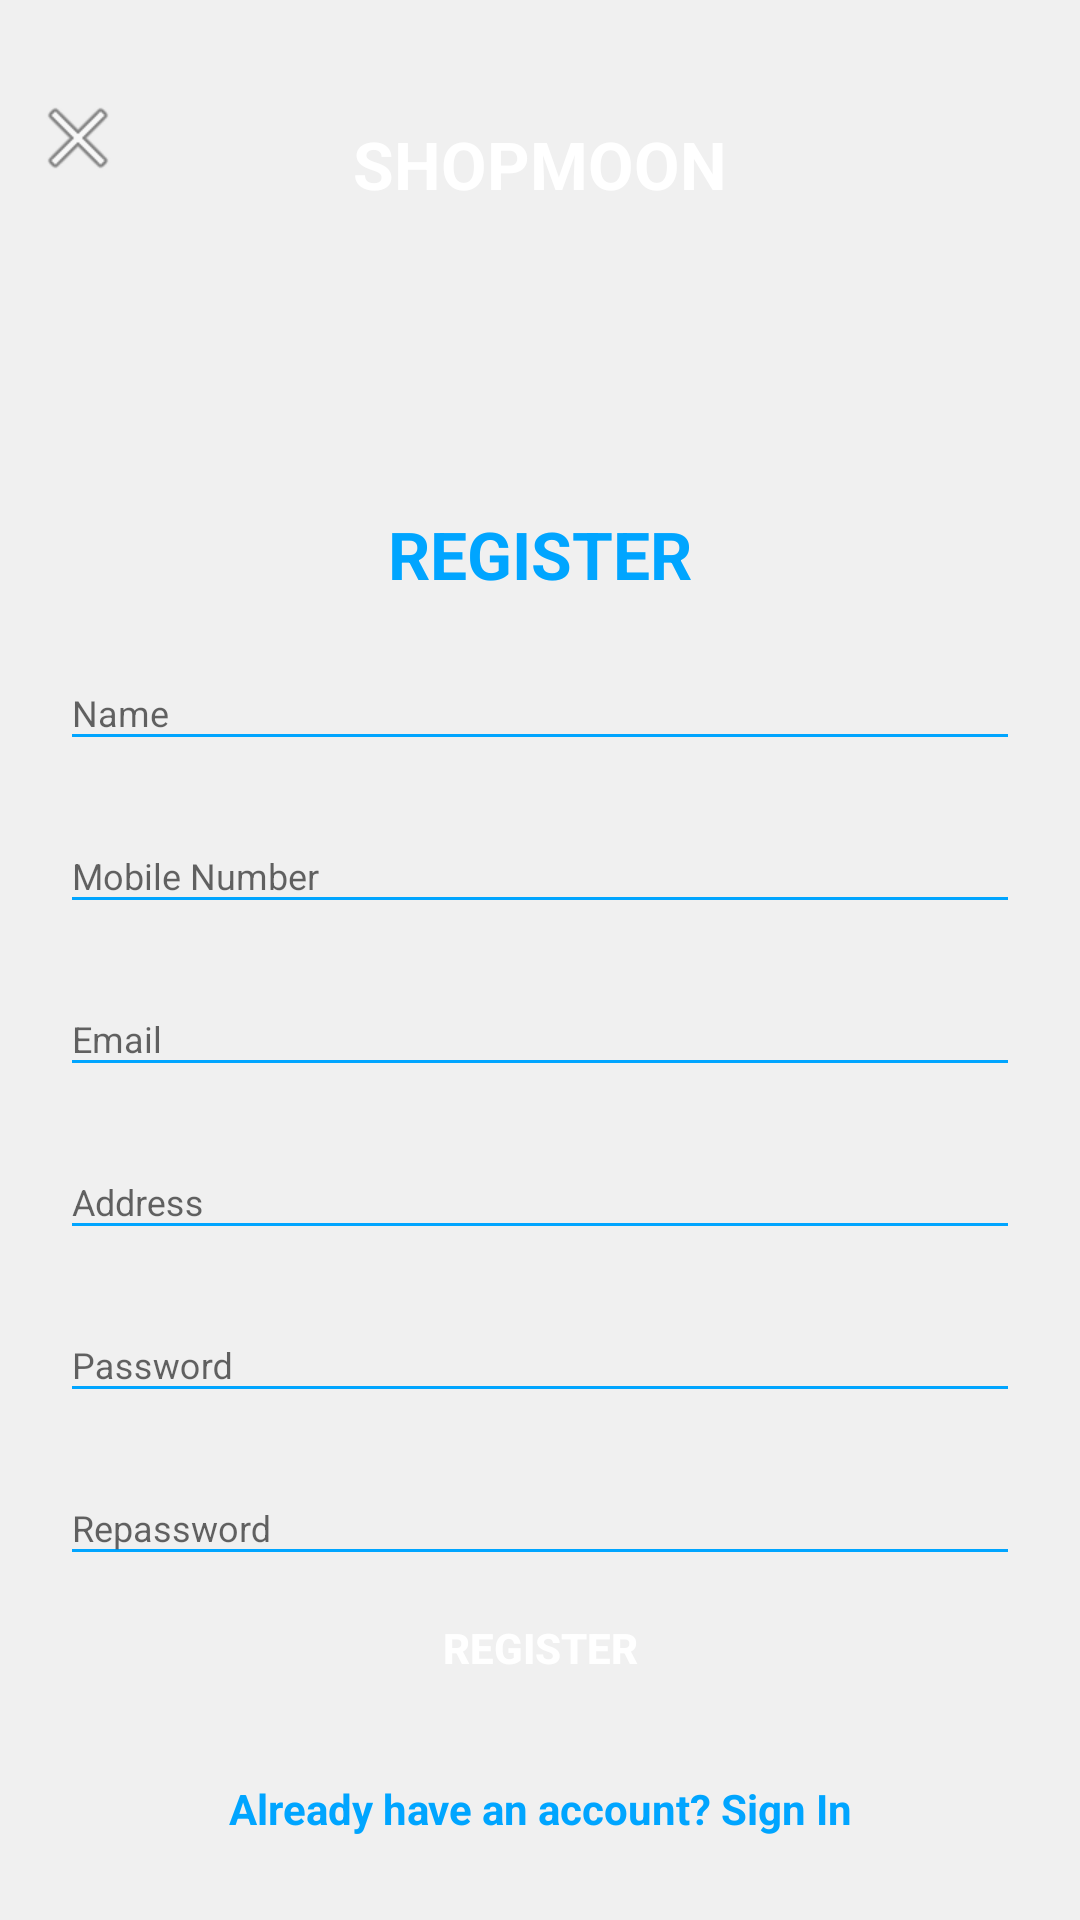

Icon click points for this 1080x1920 phone screenshot, format point (x, y):
close clear cancel: point (78, 138)
